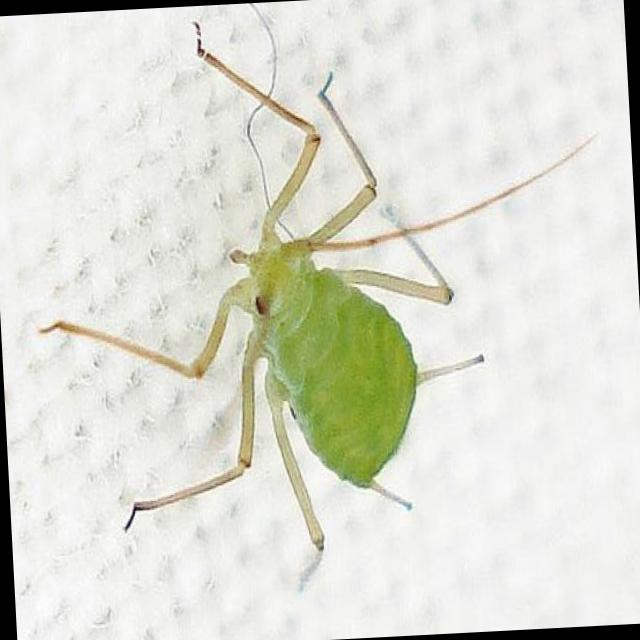aphid: (46, 25, 516, 578)
